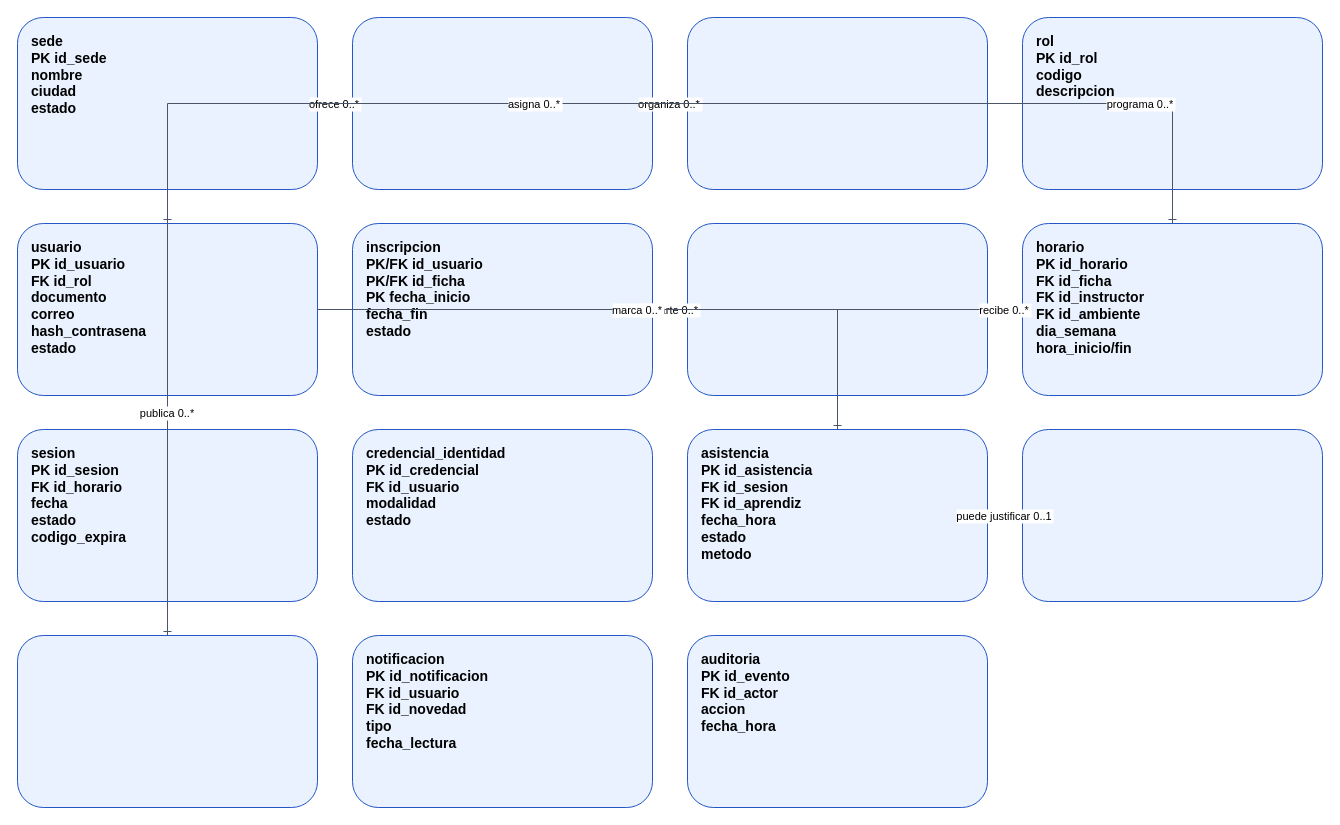
The diagram is 1340 pixels wide and 825 high, and some of its shapes have lost their labels. Here are the shapes that lost their labels. From the top down, the box of each, then its label:
(352, 16, 652, 190): programa PK id_programa FK id_sede codigo nombre activo
(686, 16, 988, 190): ficha PK id_ficha FK id_programa codigo jornada estado
(686, 222, 988, 396): ambiente PK id_ambiente FK id_sede codigo capacidad estado
(1022, 428, 1322, 602): excusa PK id_excusa FK id_asistencia FK id_revisor motivo estado
(16, 634, 318, 808): novedad PK id_novedad FK id_sede FK id_autor titulo estado
